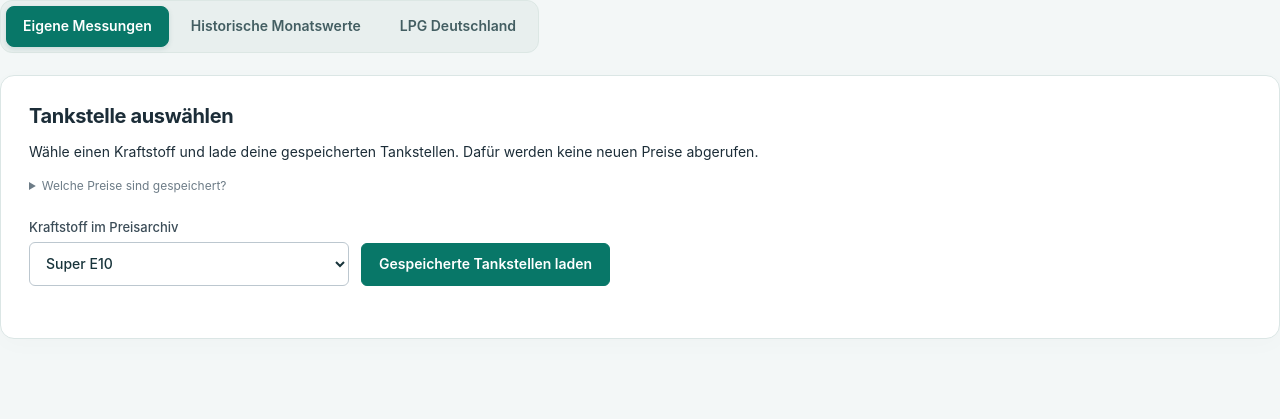
Test: rejects malformed archive data and permits retry
Click the button "Gespeicherte Tankstellen laden".
click(486, 265)  # box [361,243,610,286]
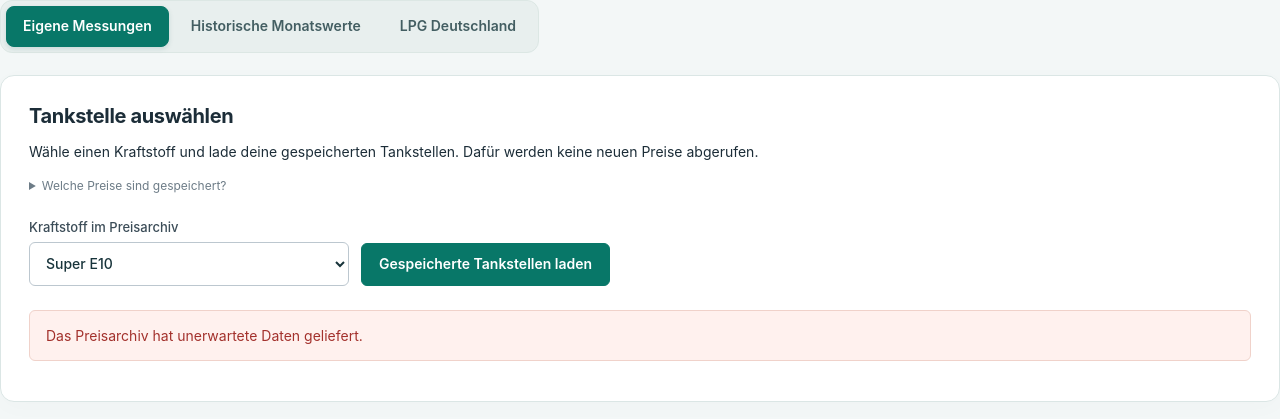
Check: the message shows "unerwartete Daten", box [46,327,363,344]
